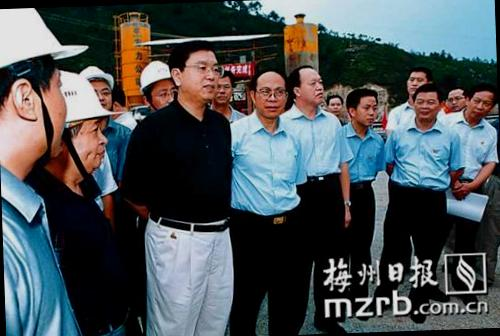no_helmet: (168, 38, 220, 102), (250, 65, 291, 119), (287, 62, 326, 109), (409, 78, 444, 122), (346, 87, 380, 130), (465, 84, 498, 122), (402, 62, 434, 100), (209, 64, 235, 108), (444, 82, 468, 114), (326, 90, 344, 120)
